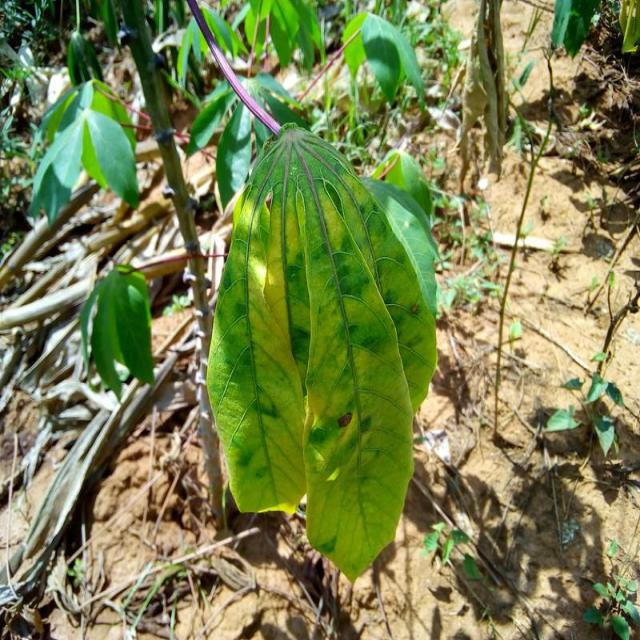cassava leaf: (205, 121, 439, 584)
